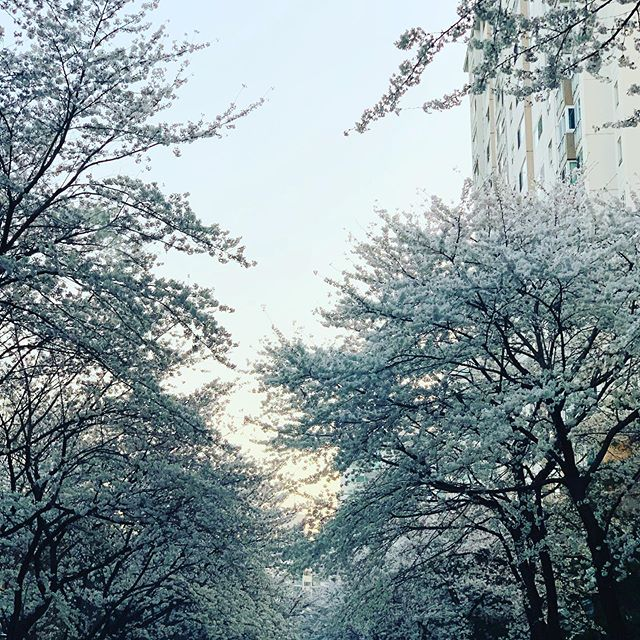building: (477, 1, 640, 214)
sky: (157, 1, 475, 295)
tree: (1, 8, 250, 623), (295, 222, 640, 640)
